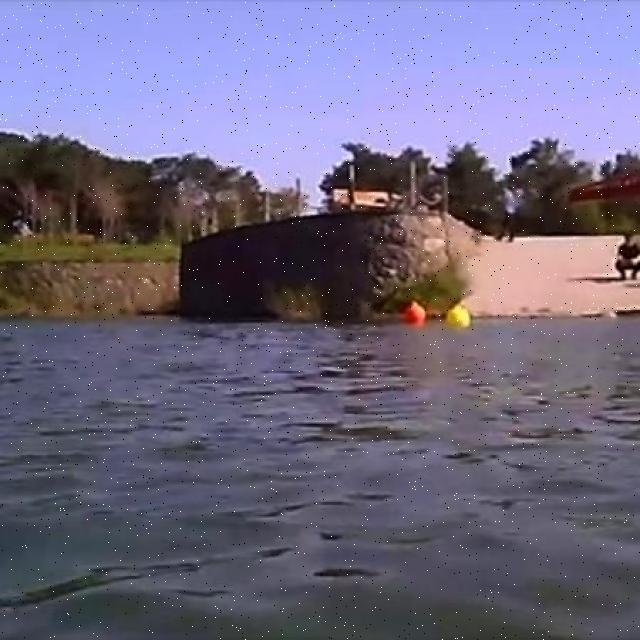buoy: (446, 304, 471, 329), (405, 301, 426, 325)
